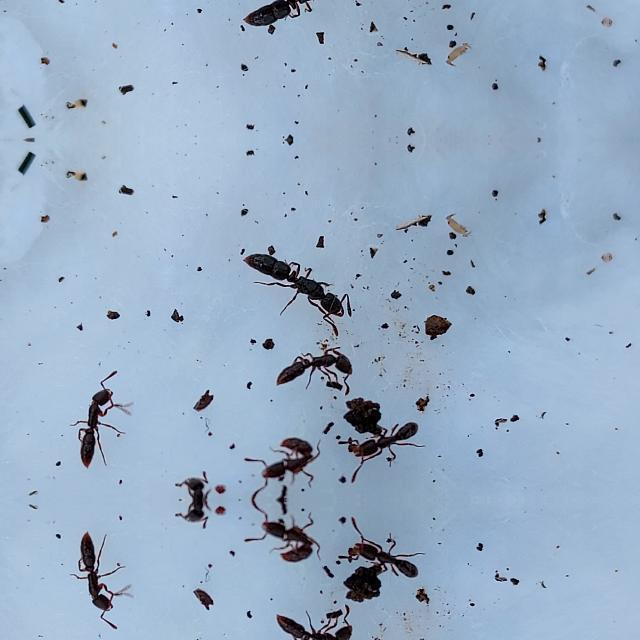Ponera: (231, 225, 367, 321), (256, 332, 376, 403), (231, 0, 367, 54), (65, 380, 123, 470), (65, 530, 123, 620), (256, 596, 374, 640), (245, 434, 323, 488), (245, 512, 323, 566), (347, 412, 419, 466), (347, 534, 419, 588), (173, 472, 230, 500), (173, 500, 230, 528)
